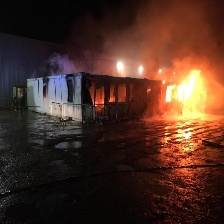fire: (166, 70, 203, 103)
smoke: (91, 4, 223, 71)
